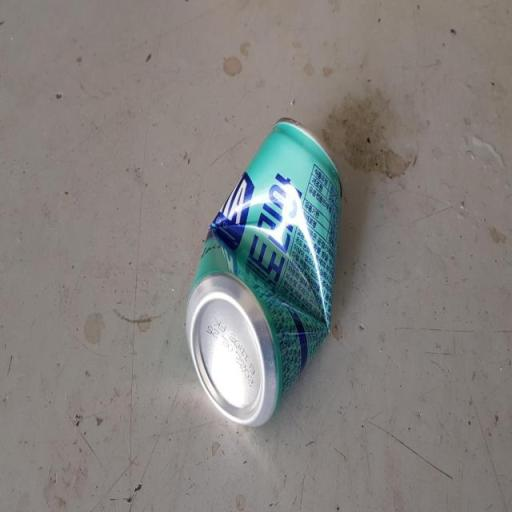metal: (176, 106, 348, 434)
